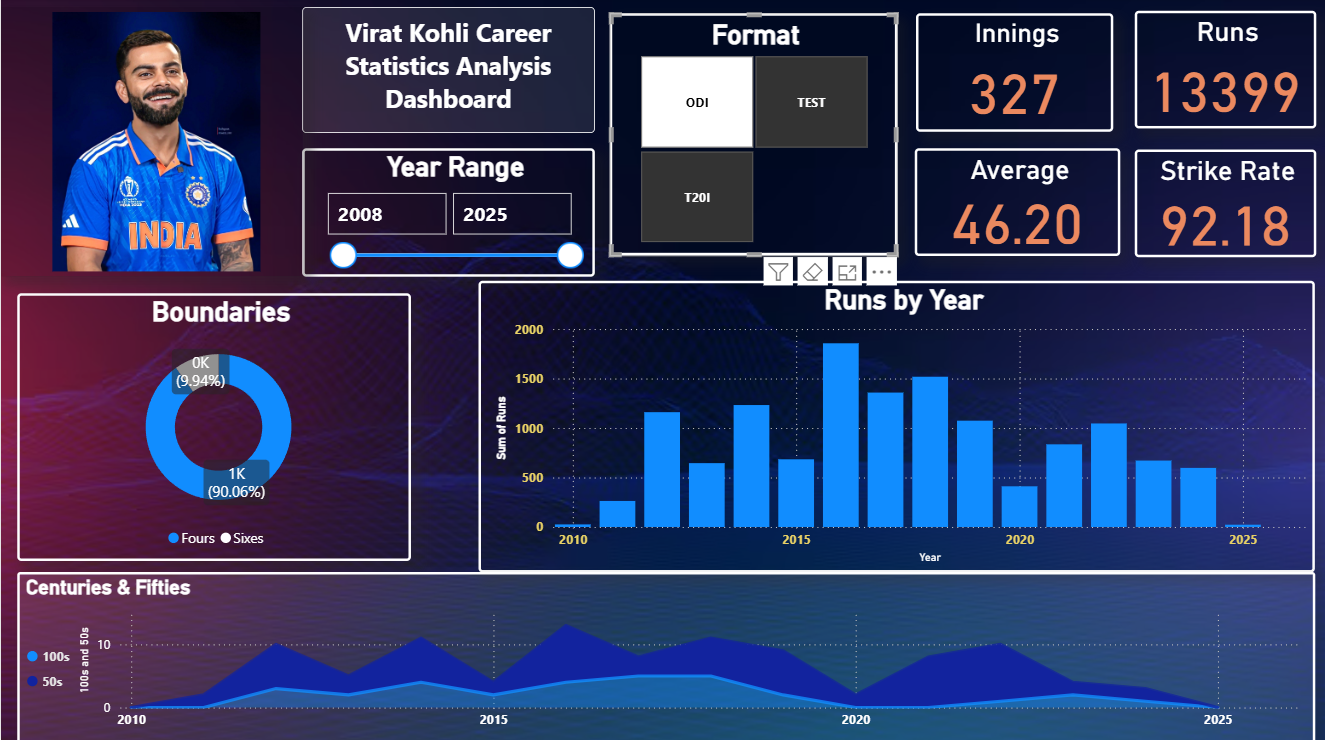

The dashboard page shown, as its layout file describes it:
{"tool":"powerbi","page":{"name":"Page 1","canvas":[1280,720],"ordinal":0},"visuals":[{"type":"textbox","box":[291.2,10,282.5,121.2],"z":0},{"type":"card","title":"Innings","fields":{"Values":["Sum(Sheet2.Innings)"]},"box":[883.1,15.7,190.6,114.6],"z":1000},{"type":"card","title":"Runs","fields":{"Values":["Sum(Sheet2.Runs)"]},"box":[1093.8,13.8,175,113.8],"z":2000},{"type":"card","title":"Average","fields":{"Values":["Avg(Sheet2.Avg)"]},"box":[882.5,146.2,198.8,103.8],"z":3000},{"type":"card","title":"Strike Rate","fields":{"Values":["Avg(Sheet2.SR)"]},"box":[1093.8,147.5,175,103.8],"z":4000},{"type":"slicer","title":"Format","fields":{"Values":["Sheet2.Format"]},"box":[587.5,16.2,277.5,233.8],"z":5000},{"type":"slicer","title":"Year Range","fields":{"Values":["Sheet2.Year "]},"box":[291.2,146.2,282.5,123.8],"z":6000},{"type":"clusteredColumnChart","title":"Runs by Year ","fields":{"Category":["Sheet2.Year "],"Y":["Sum(Sheet2.Runs)"]},"box":[461.2,273.8,807.5,281.2],"z":7000},{"type":"donutChart","title":"Boundaries","fields":{"Y":["Sum(Sheet2.4s)","Sum(Sheet2.6s)"]},"box":[16.2,286.2,380,258.8],"z":8000},{"type":"stackedAreaChart","title":"Centuries & Fifties","fields":{"Y":["Sum(Sheet2.100)","Sum(Sheet2.50)"],"Category":["Sheet2.Year "]},"box":[16.2,555,1252.5,165],"z":9000},{"type":"image","box":[0,10,291.2,260],"z":10000}]}

Visuals, with their boxes in screenshot pixels (x1, y1, x2, y2), scaled from the page's 1280x720 canvas onto the 1325x740 screenshot:
textbox: rect(301, 10, 594, 135)
"Innings" card: rect(914, 16, 1111, 134)
"Runs" card: rect(1132, 14, 1313, 131)
"Average" card: rect(914, 150, 1119, 257)
"Strike Rate" card: rect(1132, 152, 1313, 258)
"Format" slicer: rect(608, 17, 895, 257)
"Year Range" slicer: rect(301, 150, 594, 278)
"Runs by Year " clusteredColumnChart: rect(477, 281, 1313, 570)
"Boundaries" donutChart: rect(17, 294, 410, 560)
"Centuries & Fifties" stackedAreaChart: rect(17, 570, 1313, 739)
image: rect(0, 10, 301, 278)
